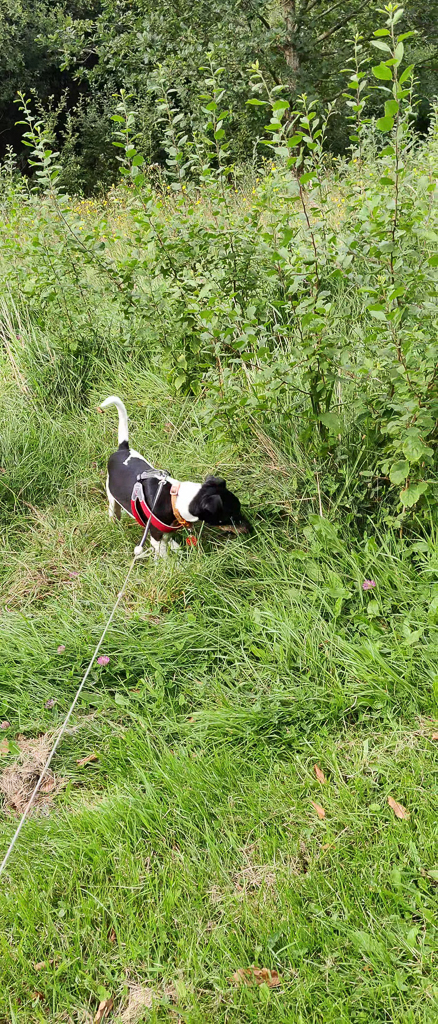Dog: (86, 387, 267, 565)
